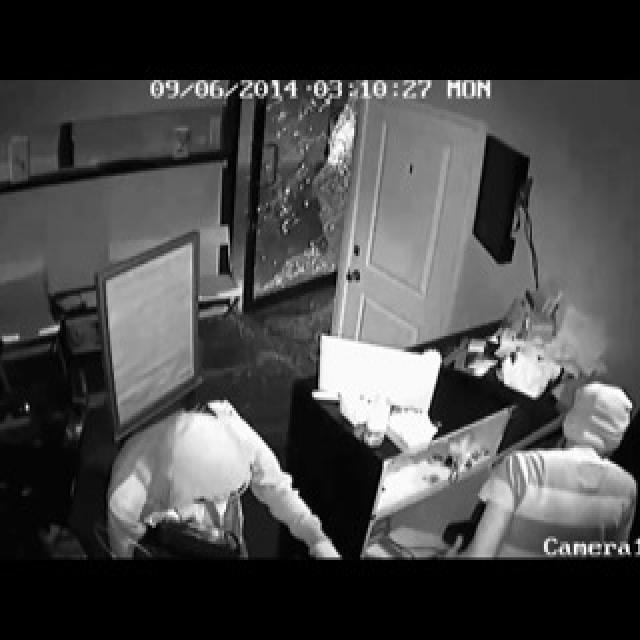thief: (92, 402, 338, 556), (459, 381, 637, 554)
